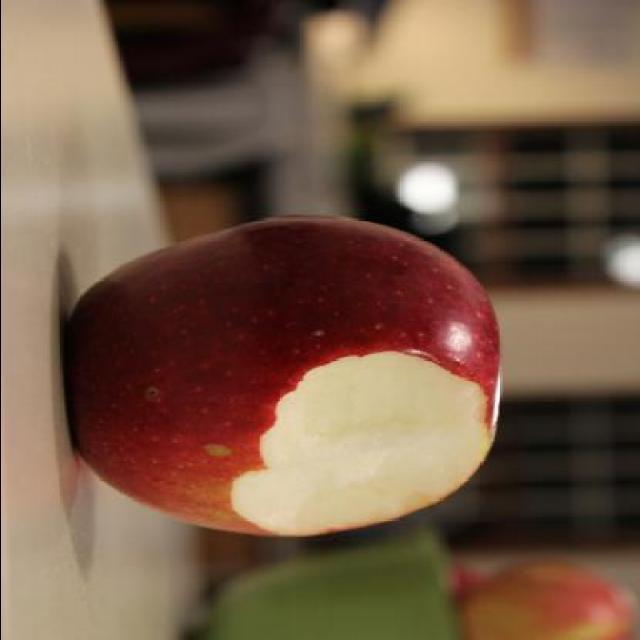Apple pie: (61, 210, 514, 528)
